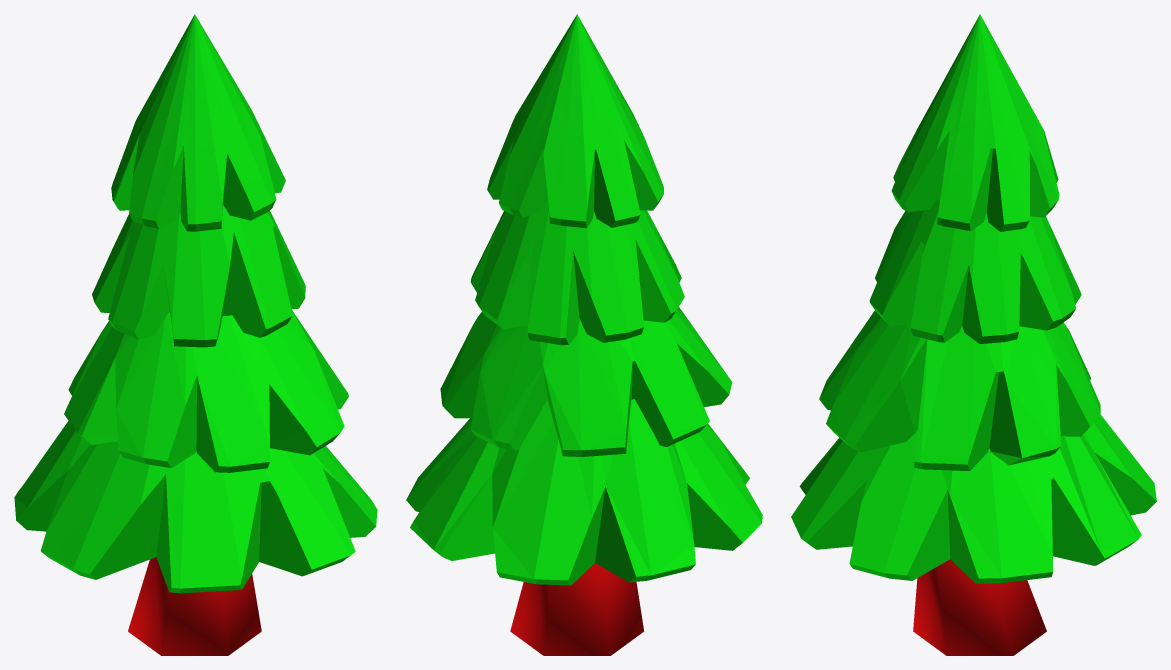
Rendered from Tree_05.fbx.
The picture shows the model from 3 angles, left to right: view 1: azimuth 30°, elevation 25°; view 2: azimuth 150°, elevation 25°; view 3: azimuth 270°, elevation 25°; orthographic projection.
Parts seen in each view (by area): view 1: PineTree_03; view 2: PineTree_03; view 3: PineTree_03.
Part boxes in pixels (x1=…): PineTree_03: x1=14, y1=14, x2=377, y2=655; PineTree_03: x1=406, y1=14, x2=762, y2=655; PineTree_03: x1=791, y1=14, x2=1156, y2=655.
Size of the model in its own units: 256 by 477 by 250.
